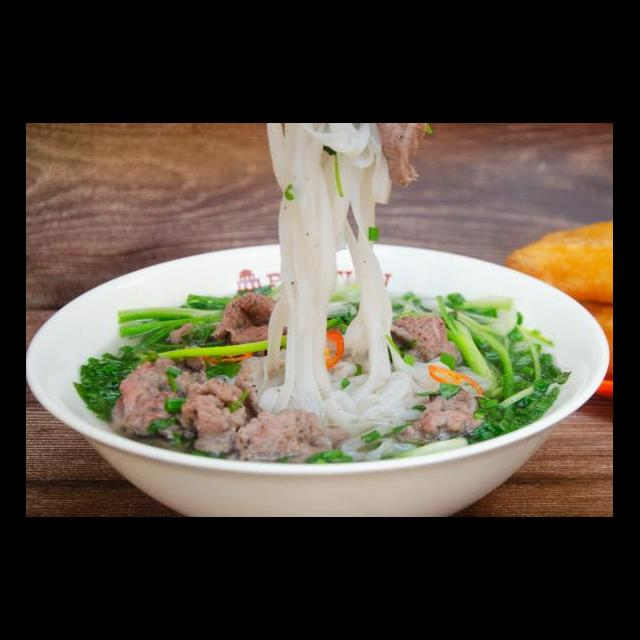banh pho: (234, 124, 436, 438)
pho bo: (28, 149, 612, 517)
thit bo: (104, 348, 214, 446), (224, 402, 354, 468), (389, 376, 492, 450), (174, 368, 254, 462), (162, 315, 248, 376), (203, 286, 280, 350), (390, 307, 468, 370), (367, 124, 432, 194)
